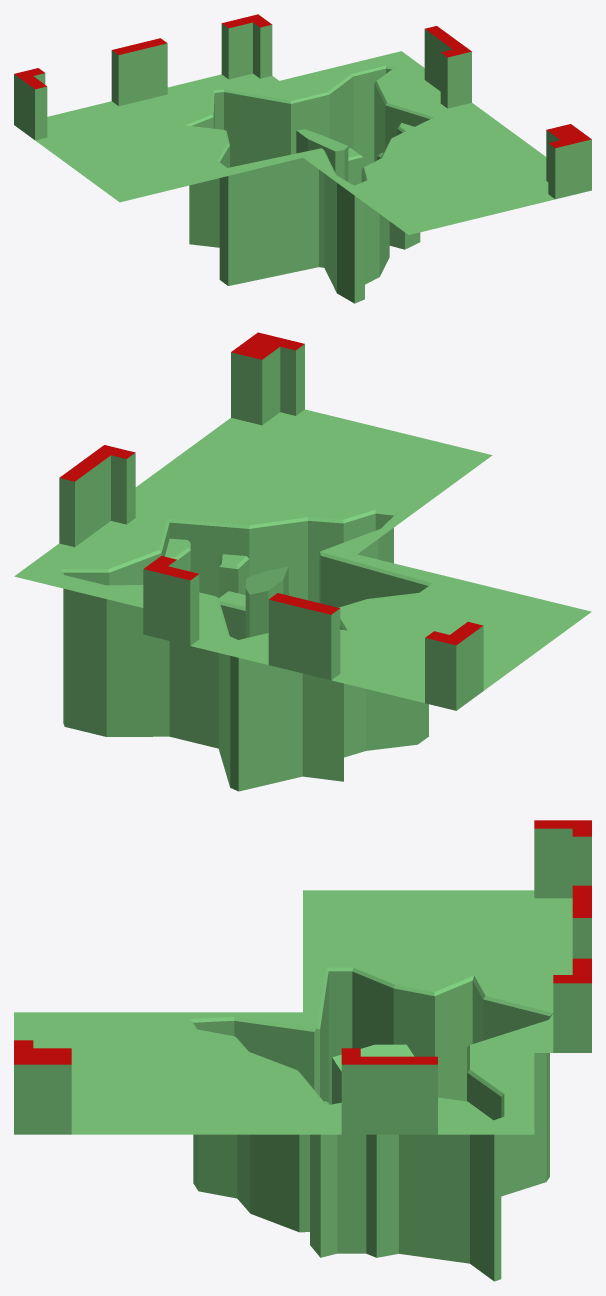
File: x_oo_ground_57_K2_1_rmstrd.fbx
3 views of the same model, one above another, from view 1: azimuth 30°, elevation 25°; view 2: azimuth 150°, elevation 25°; view 3: azimuth 270°, elevation 25° (orthographic). The views are drawn at different scales.
Parts seen in each view (by area): view 1: x_oo_ground_57_K2_1_rmstrd1; view 2: x_oo_ground_57_K2_1_rmstrd1; view 3: x_oo_ground_57_K2_1_rmstrd1.
Part boxes in pixels (bbox=[...]): x_oo_ground_57_K2_1_rmstrd1: bbox=[14, 14, 591, 303]; x_oo_ground_57_K2_1_rmstrd1: bbox=[14, 332, 591, 791]; x_oo_ground_57_K2_1_rmstrd1: bbox=[14, 820, 591, 1281].
Bounding box in the file's own units: 30 × 13.34 × 30.
